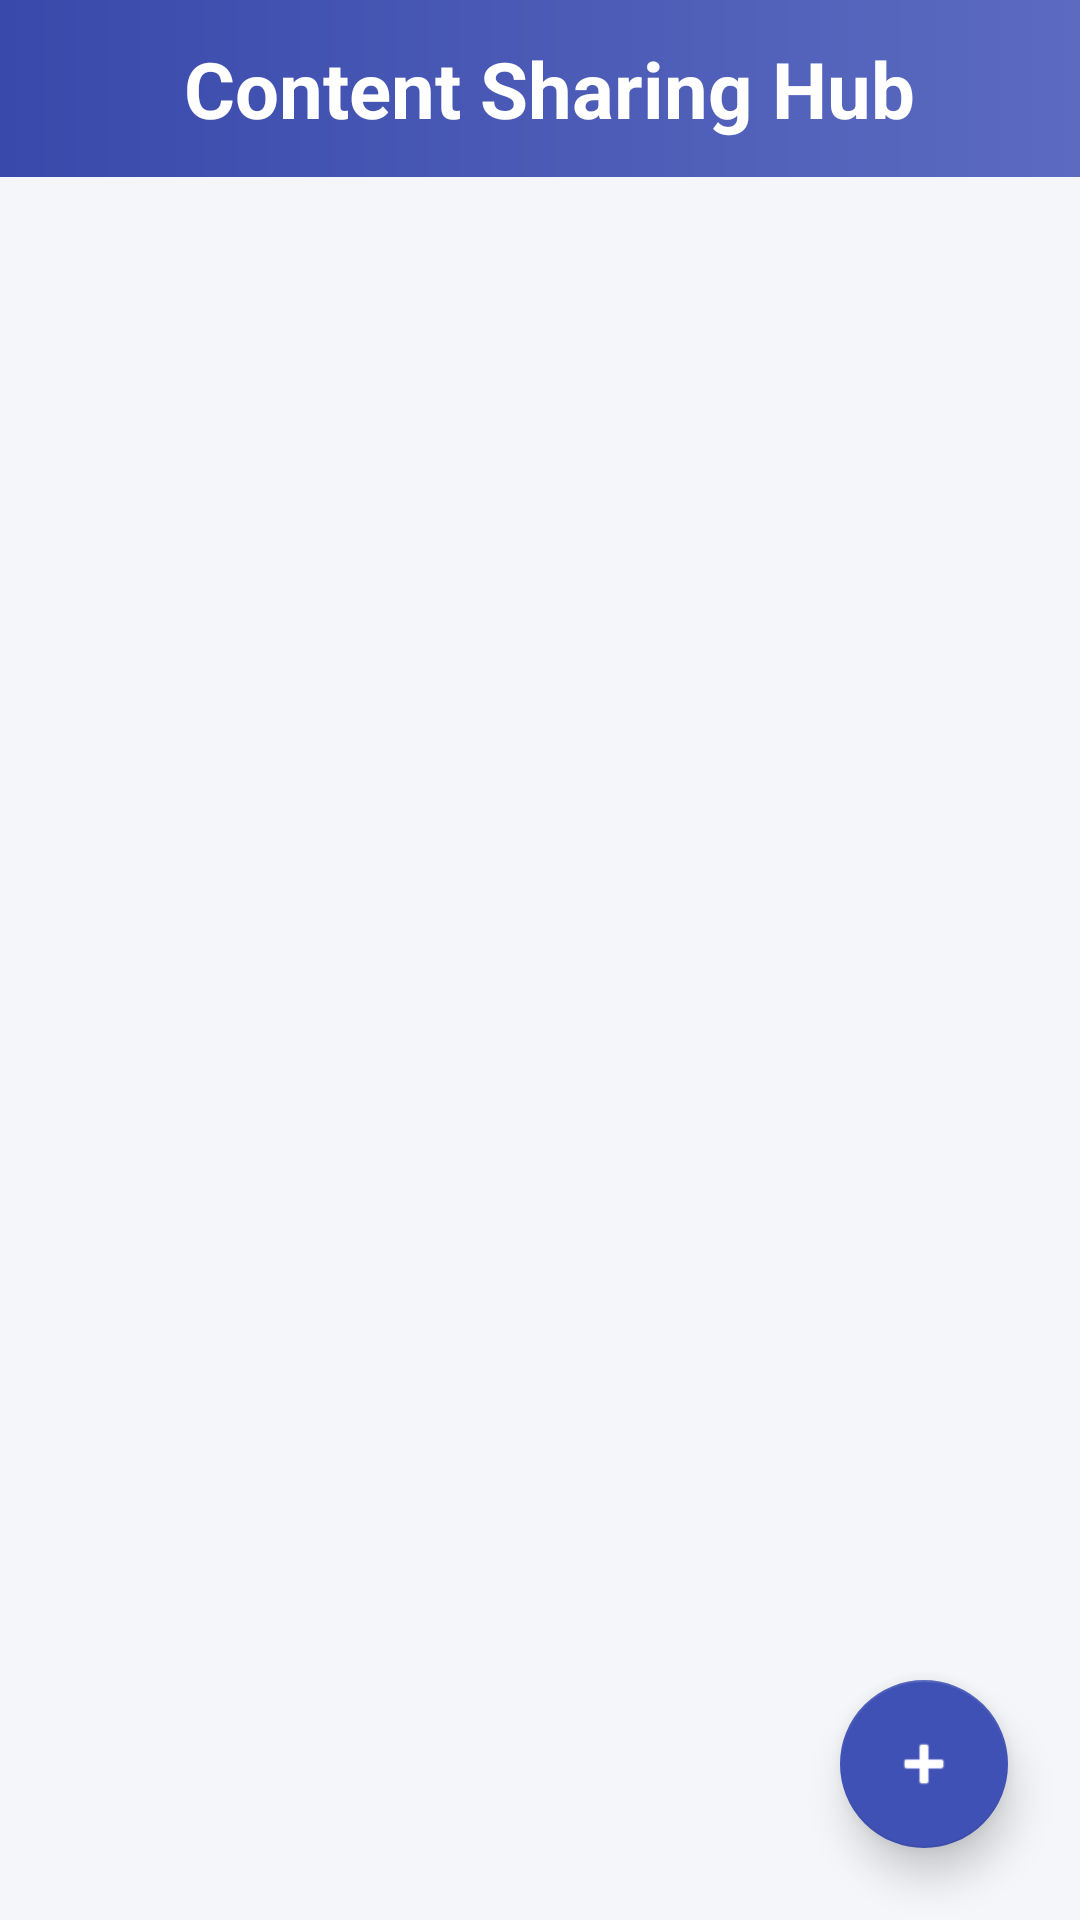

Named icons in this screenshot (1080*1920) and their bounding boxes, (x1, y1, x2, y2):
Add New Content: (840, 1680, 1008, 1848)
